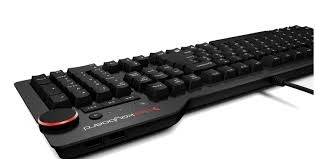keyboard: (4, 20, 312, 136)
